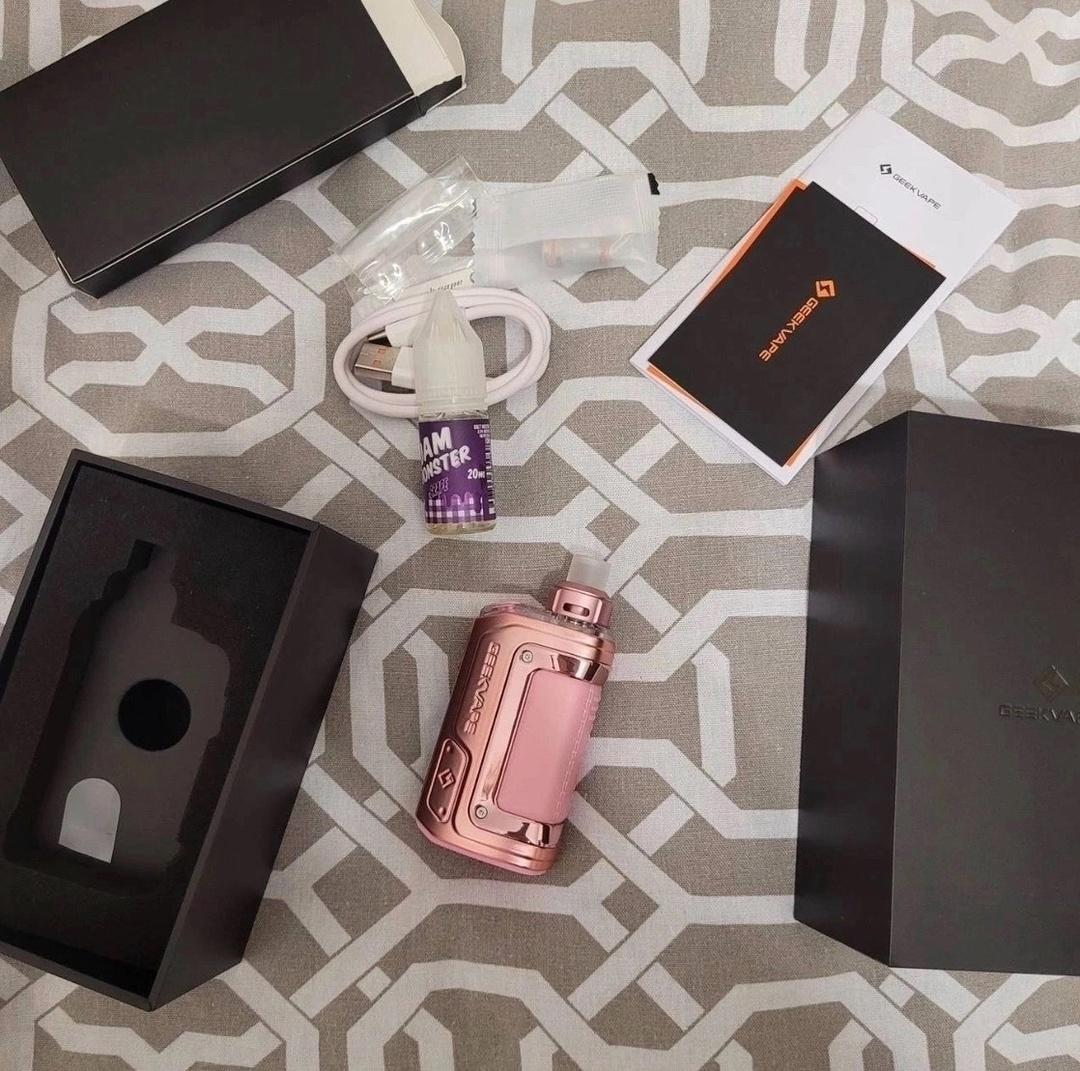Vape: (416, 556, 615, 877)
